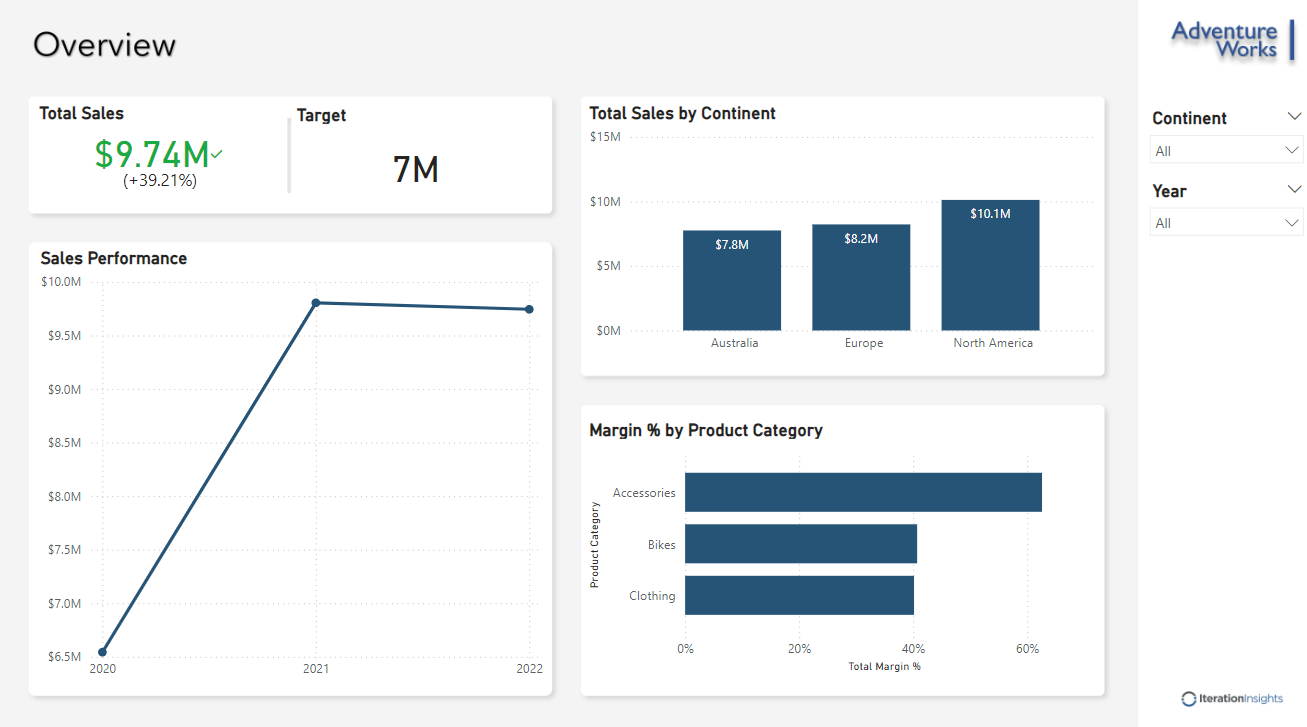

This screenshot's page, from the dashboard's own definition file:
{"tool":"powerbi","page":{"name":"Overview","canvas":[1280,720],"ordinal":0},"visuals":[{"type":"clusteredColumnChart","title":"Total Sales by Continent","fields":{"Category":["Sales Territory.Sales Territory Continent"],"Y":["Sales.Total Sales"]},"box":[570,115,500,250],"z":0},{"type":"clusteredBarChart","title":"Margin % by Product Category","fields":{"Y":["Sales.Total Margin %"],"Category":["Products.Product Hierarchy.Product Category","Products.Product Hierarchy.Product Subcategory"]},"box":[570,420,500,250],"z":1000},{"type":"lineChart","title":"Sales Performance","fields":{"Y":["Sales.Total Sales"],"Category":["Order Date.Order Date Hierarchy.Order Date Year","Order Date.Order Date Hierarchy.Order Date Month","Order Date.Order Date Hierarchy.Order Date"]},"box":[40,255,495,425],"z":2000},{"type":"kpi","title":"Total Sales","fields":{"Indicator":["Sales.Total Sales"],"Goal":["Sales.Target"],"TrendLine":["Order Date.Order Date Year"]},"box":[38.8,115,240,100],"z":3000},{"type":"card","title":"Target","fields":{"Values":["Sales.Target"]},"box":[287.3,115.5,240,100],"z":4000},{"type":"slicer","title":"Slicer Continent","fields":{"Values":["Sales Territory.Sales Territory Continent"]},"box":[1105,115,170,70],"z":5000},{"type":"slicer","title":"Slicer Year","fields":{"Values":["Order Date.Order Date Year"]},"box":[1105,185,170,70],"z":6000}]}

Visuals, with their boxes in screenshot pixels (x1, y1, x2, y2), scaled from the page's 1280x720 canvas onto the 1307x727 screenshot:
"Total Sales by Continent" clusteredColumnChart: {"left": 582, "top": 116, "right": 1093, "bottom": 369}
"Margin % by Product Category" clusteredBarChart: {"left": 582, "top": 424, "right": 1093, "bottom": 677}
"Sales Performance" lineChart: {"left": 41, "top": 257, "right": 546, "bottom": 687}
"Total Sales" kpi: {"left": 40, "top": 116, "right": 285, "bottom": 217}
"Target" card: {"left": 293, "top": 117, "right": 538, "bottom": 218}
"Slicer Continent" slicer: {"left": 1128, "top": 116, "right": 1302, "bottom": 187}
"Slicer Year" slicer: {"left": 1128, "top": 187, "right": 1302, "bottom": 257}
